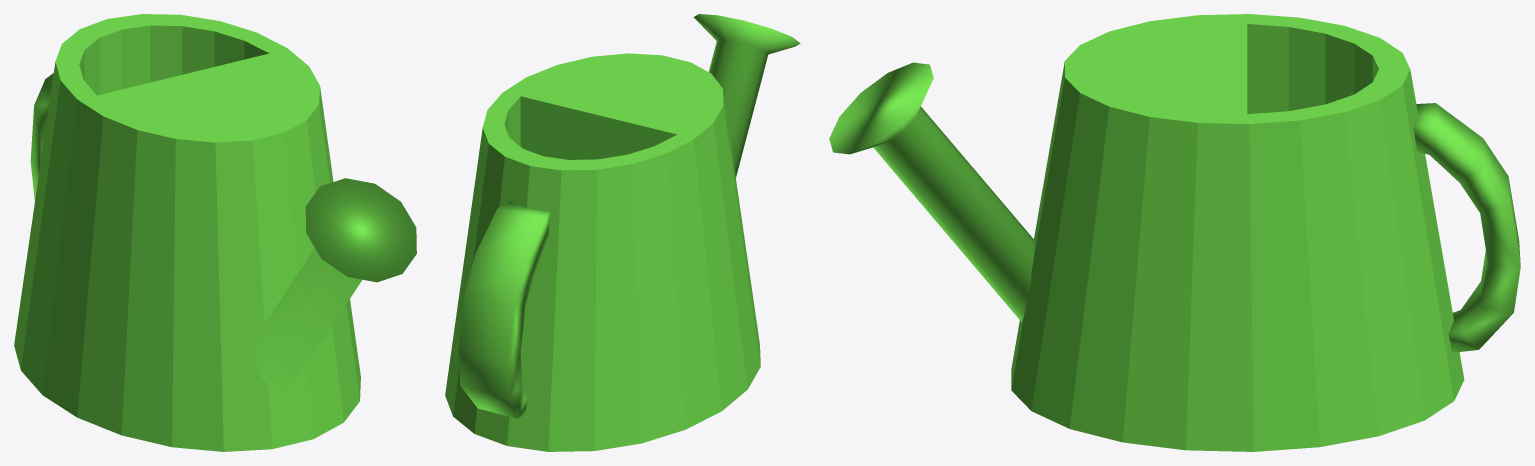
Rendered from water_can.glb.
3 views of the same model, side by side, from view 1: azimuth 30°, elevation 25°; view 2: azimuth 150°, elevation 25°; view 3: azimuth 270°, elevation 25° (orthographic). The views are drawn at different scales.
Parts seen in each view (by area): view 1: Cylinder, Cylinder.001, Cube; view 2: Cylinder, Cube, Cylinder.001; view 3: Cylinder, Cylinder.001, Cube.
Part boxes in pixels (<box>): Cylinder: <box>14,14,360,451</box>; Cylinder.001: <box>254,178,416,388</box>; Cube: <box>30,73,53,201</box>; Cylinder: <box>445,53,760,451</box>; Cube: <box>458,201,550,418</box>; Cylinder.001: <box>693,14,800,177</box>; Cylinder: <box>1011,14,1464,451</box>; Cylinder.001: <box>829,62,1034,321</box>; Cube: <box>1413,103,1520,352</box>.
Size of the model in its own units: 1.99 by 2 by 4.03.
